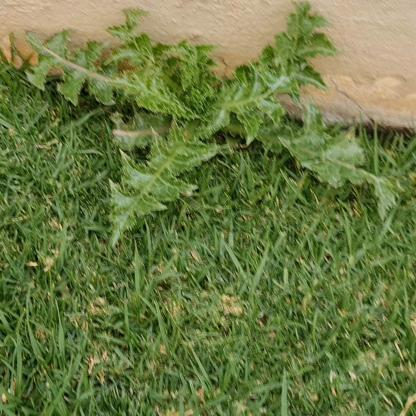Weeds: (29, 1, 405, 250)
